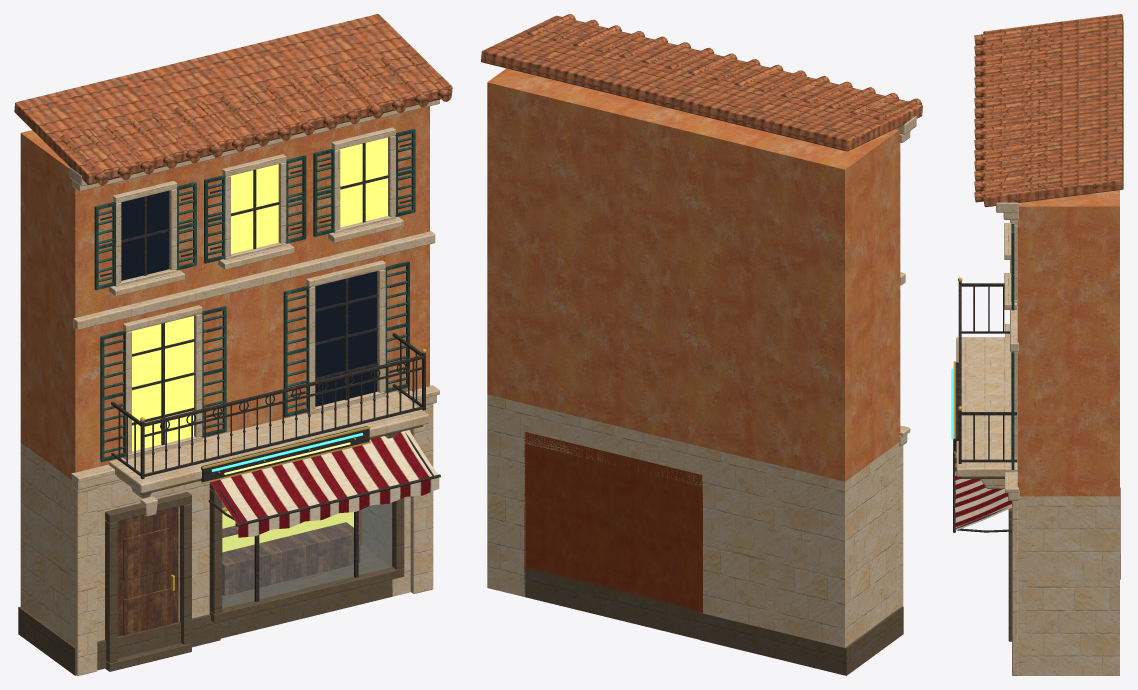
Rendered from salou_facade.glb.
3 renders of one model, left to right at view 1: azimuth 30°, elevation 25°; view 2: azimuth 150°, elevation 25°; view 3: azimuth 270°, elevation 25°, orthographic. The views are drawn at different scales.
Visible parts, largest first — view 1: Facade_Wall, Windows_Warm, Balcony, Awning, Neon_Sign; view 2: Facade_Wall; view 3: Facade_Wall, Balcony, Awning, Neon_Sign.
Boxes of the visible parts, x1=… form: Facade_Wall: x1=14, y1=14, x2=452, y2=675; Windows_Warm: x1=121, y1=137, x2=391, y2=607; Balcony: x1=109, y1=333, x2=428, y2=498; Awning: x1=208, y1=430, x2=440, y2=537; Neon_Sign: x1=201, y1=426, x2=370, y2=483; Facade_Wall: x1=481, y1=14, x2=922, y2=675; Facade_Wall: x1=974, y1=14, x2=1123, y2=675; Balcony: x1=956, y1=277, x2=1017, y2=488; Awning: x1=953, y1=439, x2=1011, y2=532; Neon_Sign: x1=951, y1=361, x2=958, y2=453.
Size of the model in its own units: 6.18 by 8.63 by 2.7.
16 materials, 9 textured.
